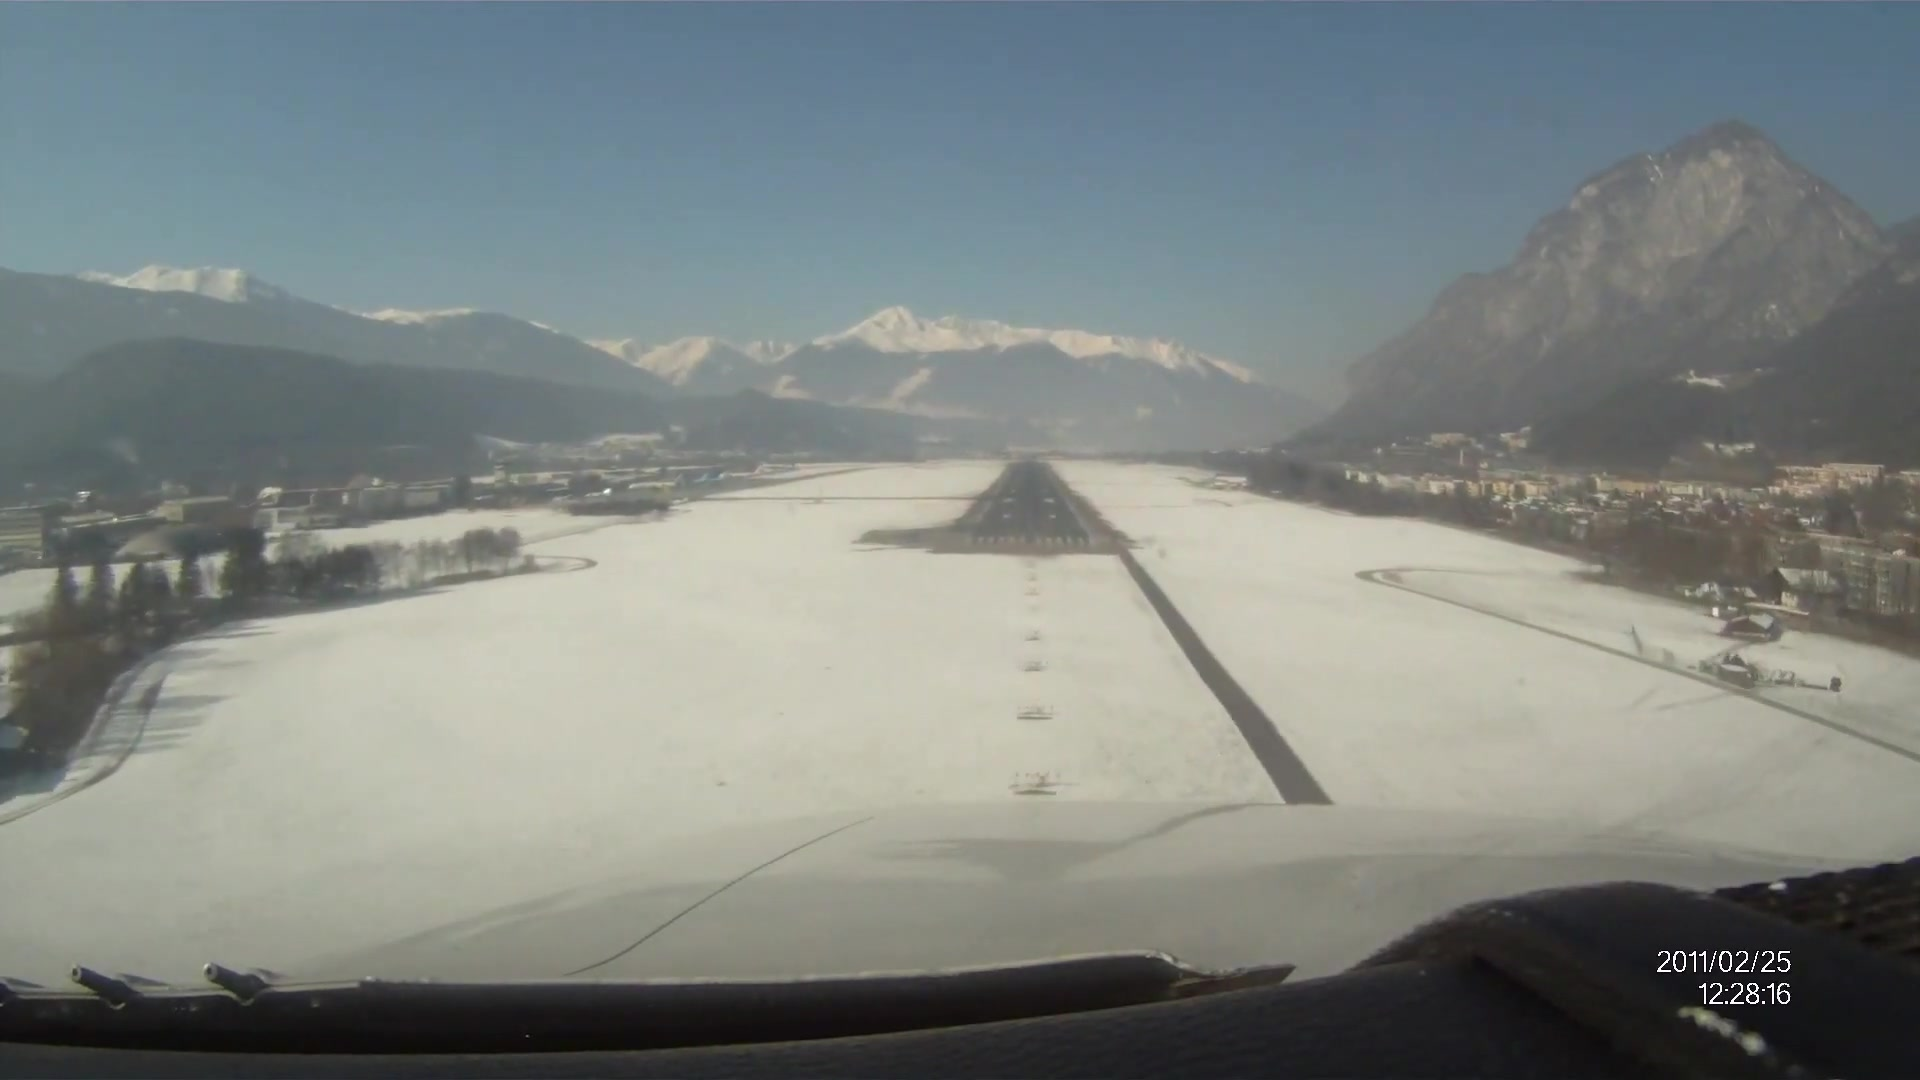entrance: (971, 534, 1088, 549)
runway: (967, 456, 1091, 550)
